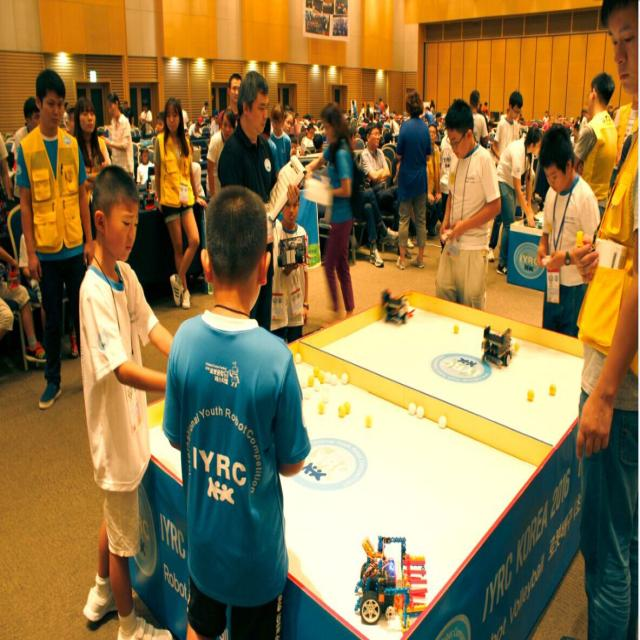body: (160, 181, 313, 639), (76, 162, 178, 638), (15, 69, 95, 410), (216, 68, 304, 334), (301, 98, 368, 334), (535, 120, 602, 342), (435, 99, 501, 311), (151, 92, 207, 314), (0, 121, 45, 383), (59, 94, 224, 160), (281, 95, 451, 159), (247, 186, 289, 435), (494, 123, 547, 278), (346, 124, 400, 268), (358, 121, 413, 261), (570, 71, 620, 223), (572, 71, 620, 221), (394, 89, 432, 271), (478, 98, 618, 145), (71, 94, 112, 253), (487, 90, 524, 264), (280, 195, 308, 344), (18, 228, 49, 350), (10, 95, 40, 208), (100, 91, 136, 183), (205, 106, 238, 206), (392, 151, 418, 247), (425, 123, 444, 240), (438, 132, 454, 255), (304, 0, 348, 37), (217, 70, 243, 130), (270, 102, 292, 172), (259, 115, 280, 178), (469, 88, 490, 149), (136, 146, 156, 186), (138, 99, 153, 140)
